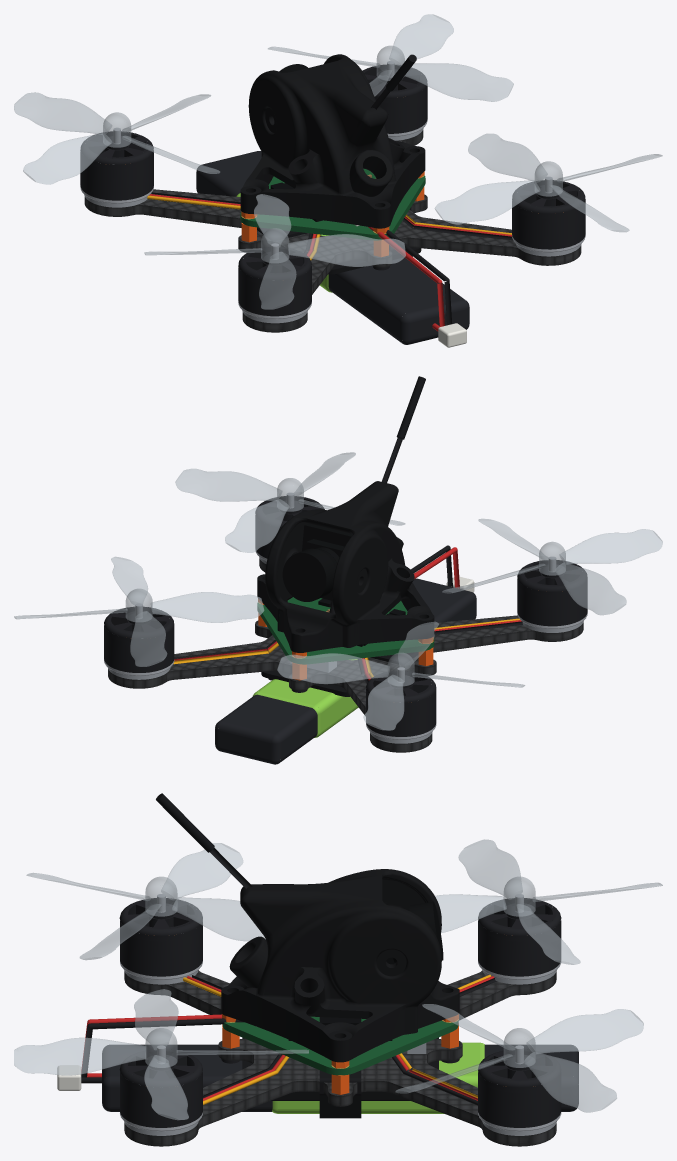
Rendered from frame-2.glb.
3 renders of one model, top to bottom at view 1: azimuth 30°, elevation 25°; view 2: azimuth 150°, elevation 25°; view 3: azimuth 270°, elevation 25°, orthographic. The views are drawn at different scales.
Visible parts, largest first — view 1: canopy, frame, battery, propeller_rear_right, propeller_front_left, propeller_rear_left, motor_rear_right, propeller_front_right, motor_front_left, motor_rear_left, flight_controller, motor_front_right (+1 smaller); view 2: canopy, frame, battery, propeller_rear_left, propeller_front_left, propeller_front_right, propeller_rear_right, motor_front_right, motor_rear_left, motor_front_left, flight_controller, camera (+2 smaller); view 3: canopy, frame, propeller_front_right, propeller_rear_right, battery, motor_front_right, motor_rear_right, propeller_rear_left, flight_controller, propeller_front_left, motor_front_left, motor_rear_left (+3 smaller).
Boxes of the visible parts, left/top/right/bottom form: canopy: left=240, top=54, right=425, bottom=228; frame: left=84, top=130, right=581, bottom=332; battery: left=196, top=151, right=469, bottom=347; propeller_rear_right: left=434, top=133, right=662, bottom=232; propeller_front_left: left=14, top=92, right=219, bottom=184; propeller_rear_left: left=144, top=194, right=405, bottom=309; motor_rear_right: left=402, top=176, right=585, bottom=256; propeller_front_right: left=268, top=14, right=513, bottom=101; motor_front_left: left=80, top=127, right=240, bottom=209; motor_rear_left: left=238, top=233, right=320, bottom=323; flight_controller: left=240, top=168, right=452, bottom=326; motor_front_right: left=362, top=61, right=427, bottom=140; canopy: left=257, top=481, right=434, bottom=652; frame: left=108, top=558, right=583, bottom=752; battery: left=215, top=576, right=476, bottom=764; propeller_rear_left: left=442, top=518, right=662, bottom=615; propeller_front_left: left=277, top=621, right=524, bottom=730; propeller_front_right: left=14, top=556, right=264, bottom=666; propeller_rear_right: left=175, top=452, right=405, bottom=552; motor_front_right: left=104, top=603, right=278, bottom=679; motor_rear_left: left=434, top=556, right=587, bottom=634; motor_front_left: left=358, top=657, right=436, bottom=743; flight_controller: left=257, top=545, right=459, bottom=692; camera: left=282, top=523, right=352, bottom=613; canopy: left=221, top=869, right=459, bottom=1062; frame: left=124, top=970, right=556, bottom=1146; propeller_front_right: left=395, top=1004, right=643, bottom=1112; propeller_rear_right: left=14, top=989, right=308, bottom=1120; battery: left=57, top=1042, right=578, bottom=1113; motor_front_right: left=392, top=1045, right=561, bottom=1135; motor_rear_right: left=119, top=1045, right=289, bottom=1135; propeller_rear_left: left=26, top=843, right=265, bottom=960; flight_controller: left=81, top=1014, right=459, bottom=1094; propeller_front_left: left=435, top=839, right=662, bottom=964; motor_front_left: left=457, top=894, right=561, bottom=996; motor_rear_left: left=119, top=894, right=222, bottom=996.
Bounding box in the file's own units: 0.1089 × 0.0574 × 0.1089.
22 materials, 1 textured.
